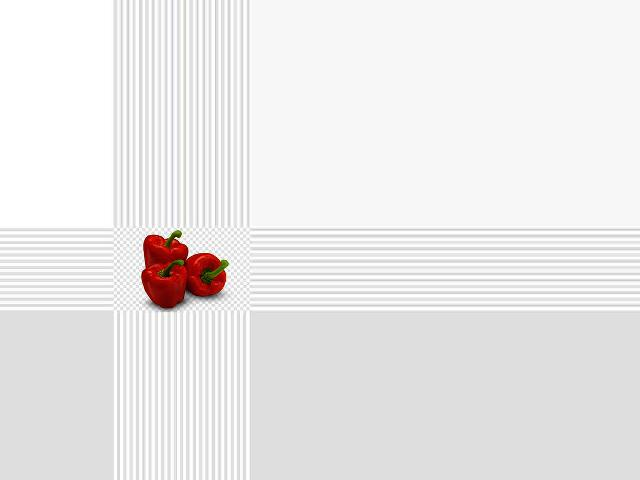bell_pepper: (180, 247, 231, 300)
